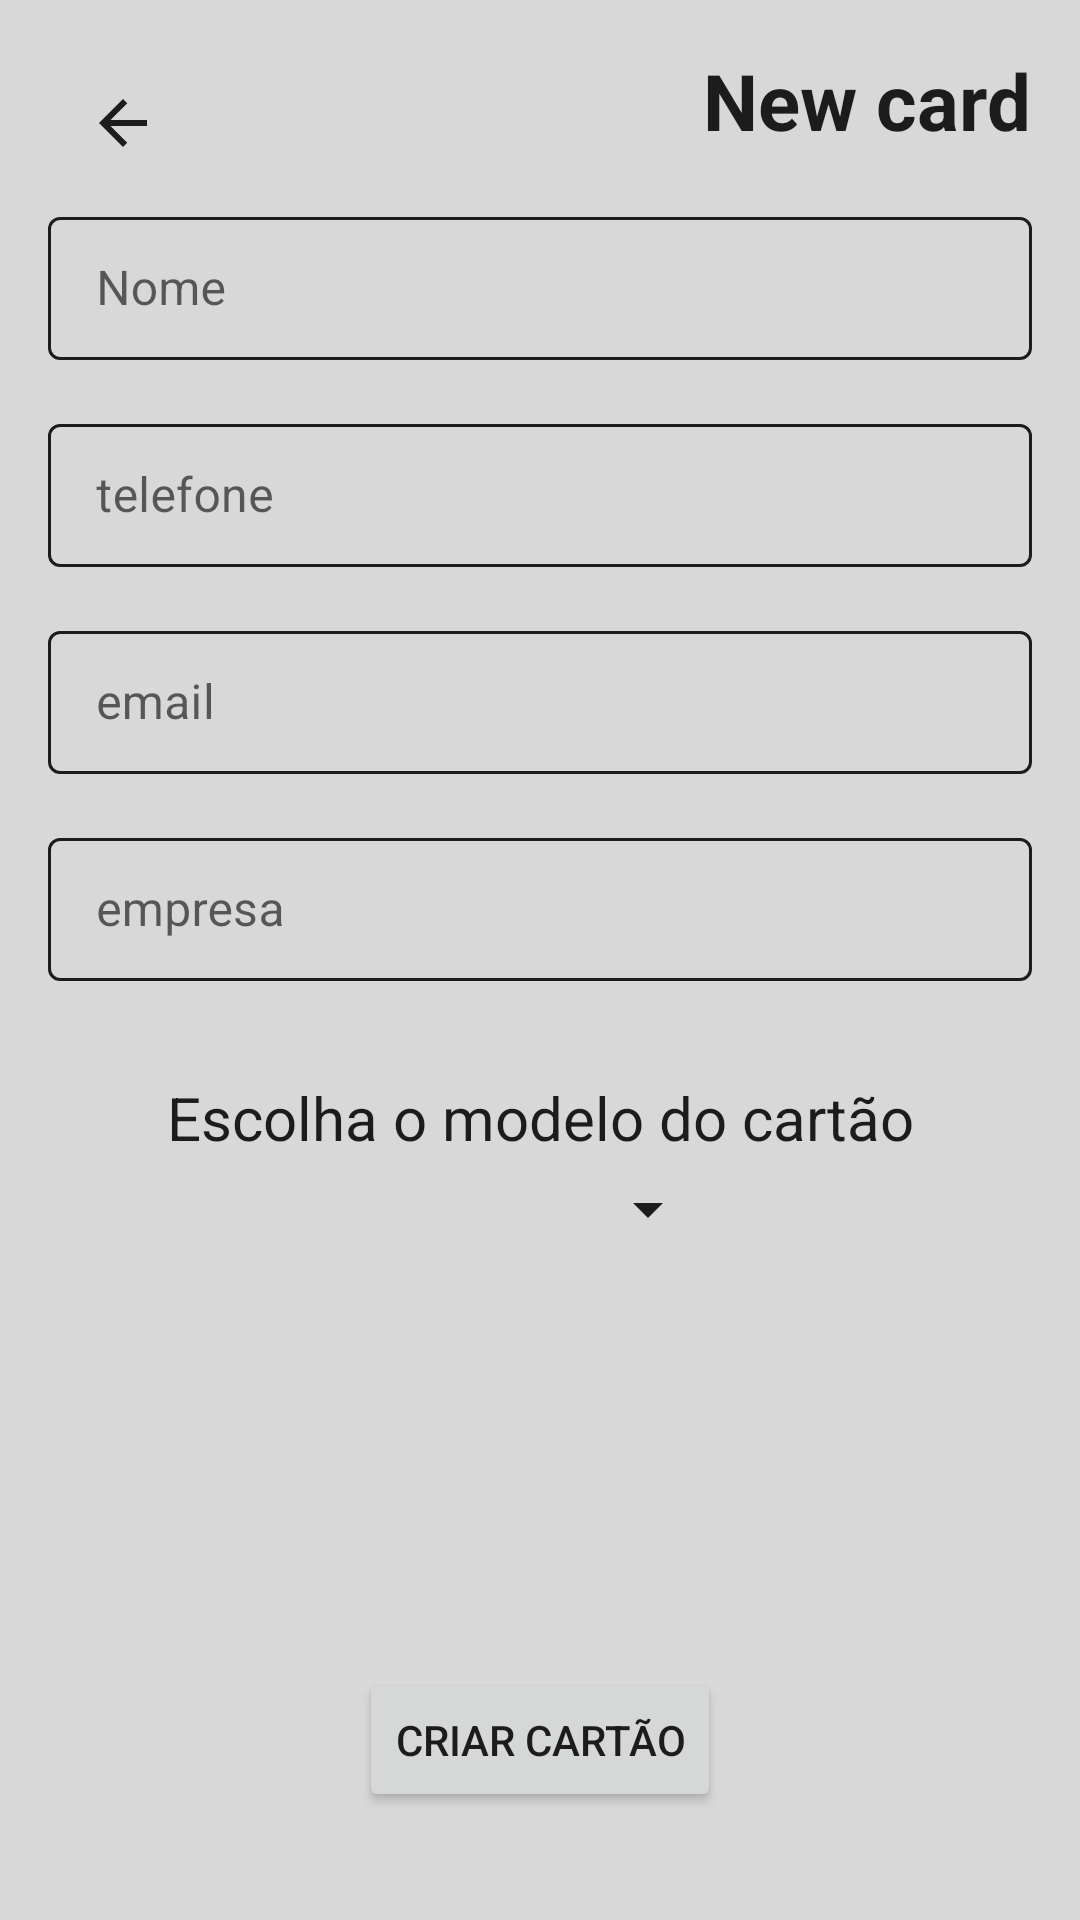

Locate icon controls on the screen. Image size 1080 × 1920, boxes as box(x1, y1, x2, y2).
arrow back: box(99, 99, 147, 147)
